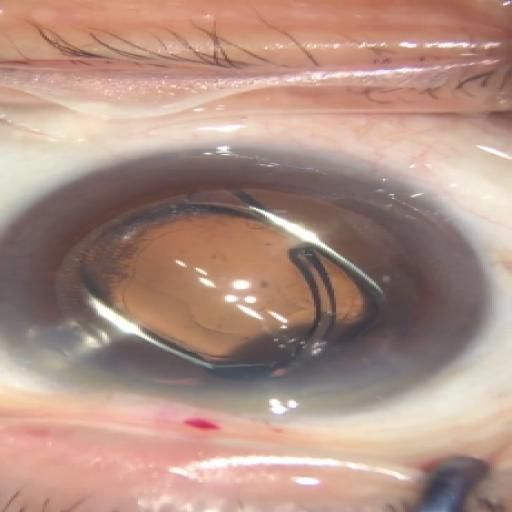cornea: (0, 145, 496, 414)
pupil: (89, 211, 384, 366)
